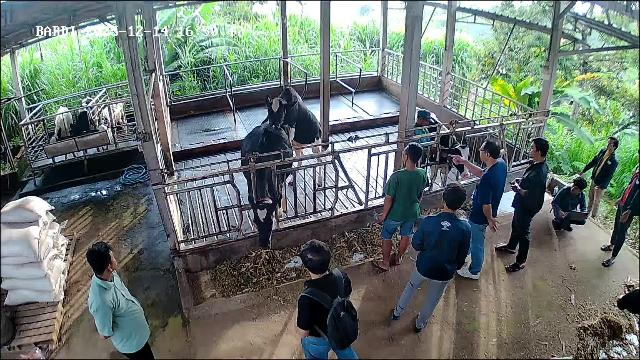mounting: (255, 86, 326, 181)
